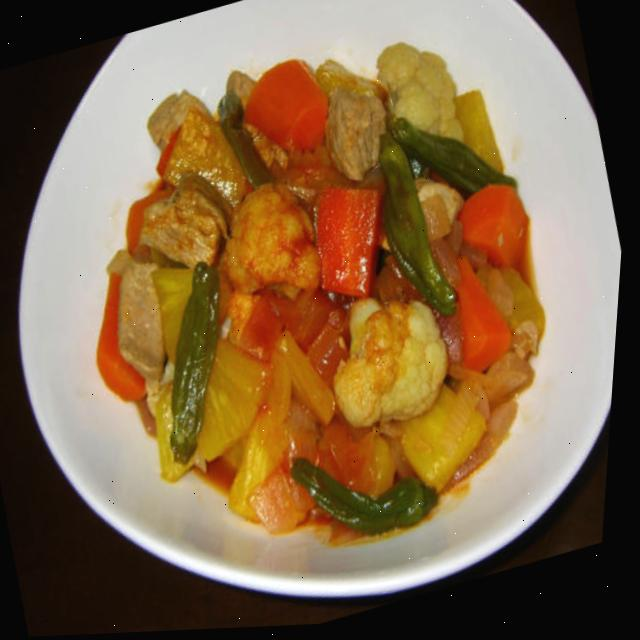猪肉菜式: (24, 0, 612, 619)
